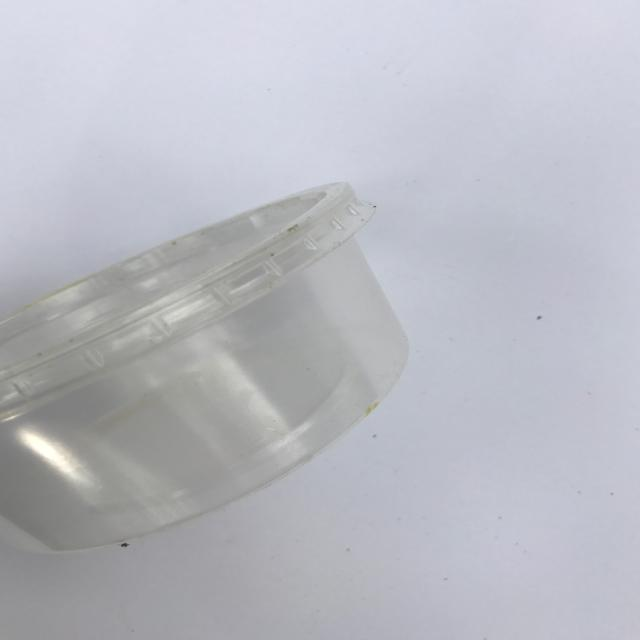plastic: (0, 180, 410, 552)
